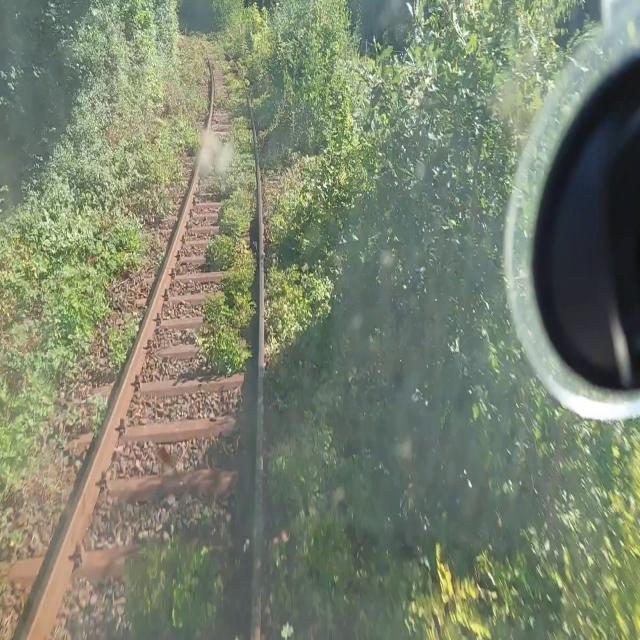Plant: (264, 165, 355, 639), (11, 286, 114, 497), (146, 21, 246, 215), (210, 44, 300, 236), (122, 535, 226, 639), (196, 236, 253, 371), (113, 213, 151, 277), (83, 388, 108, 437), (107, 324, 134, 369)
